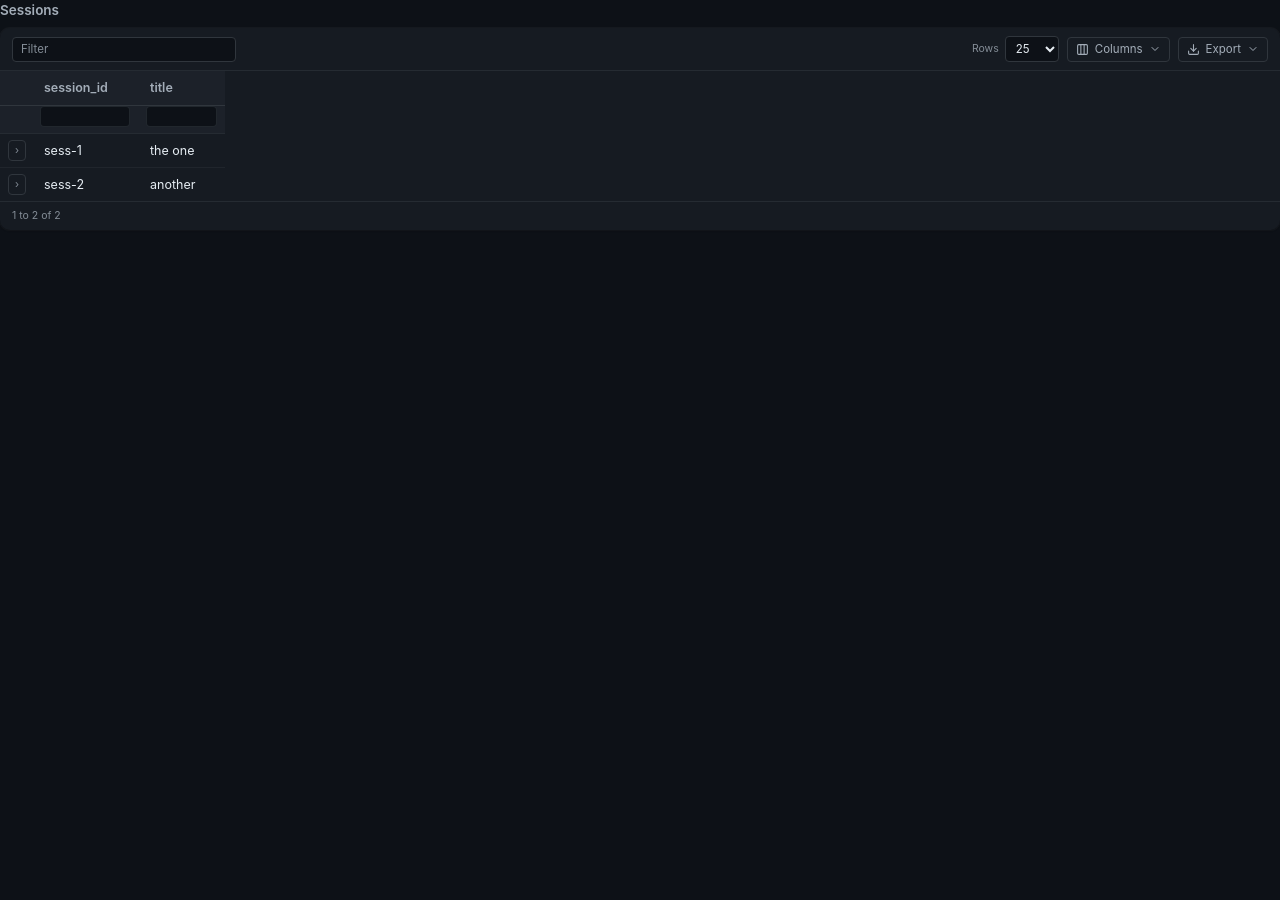
Test: a row of the Sessions list › says which silence it is when a chat has none of this
Click the button named "plans and background work" at (17, 151), box [8,140,26,161]
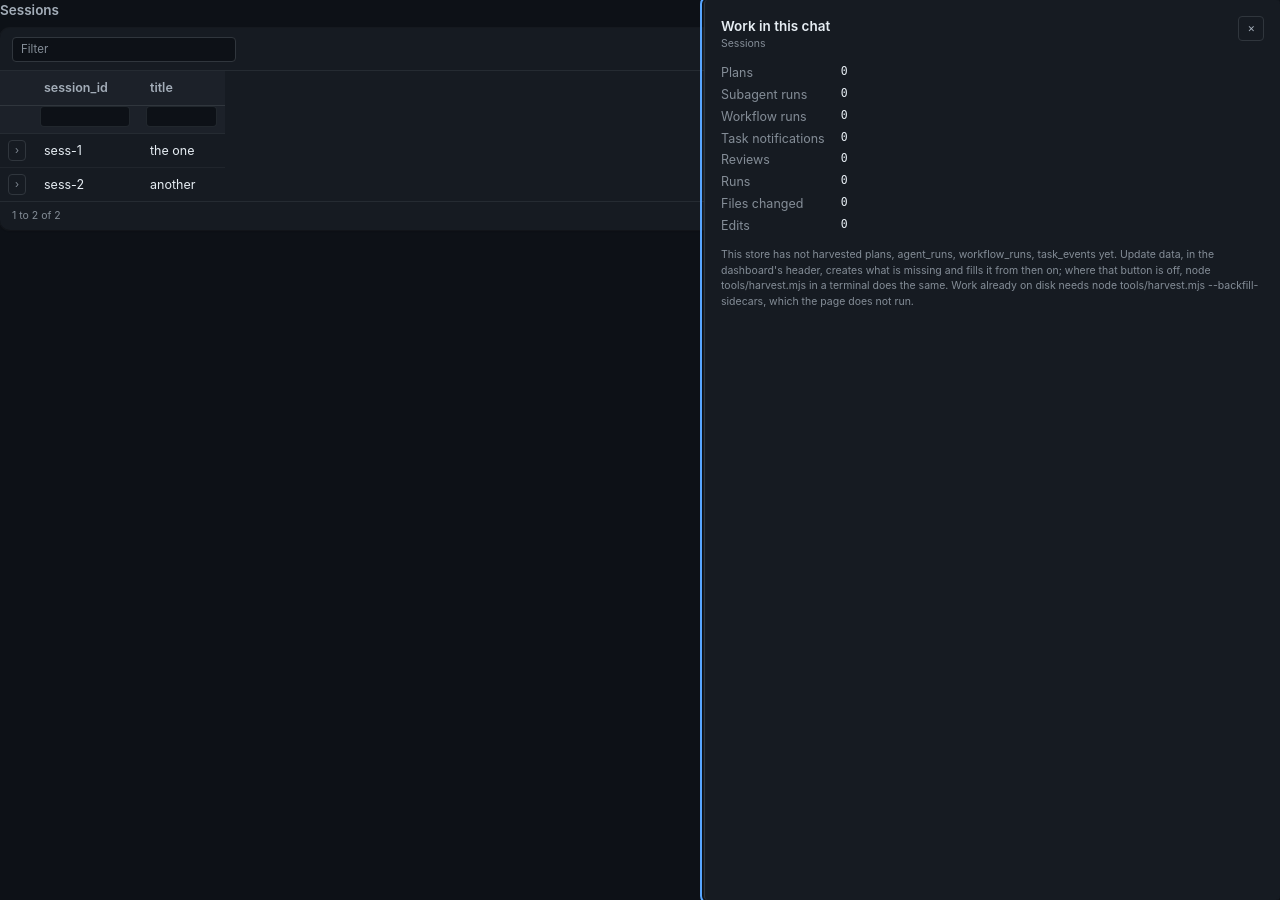
expect the dialog shows "has not harvested": met, box [721,248,1258,308]
